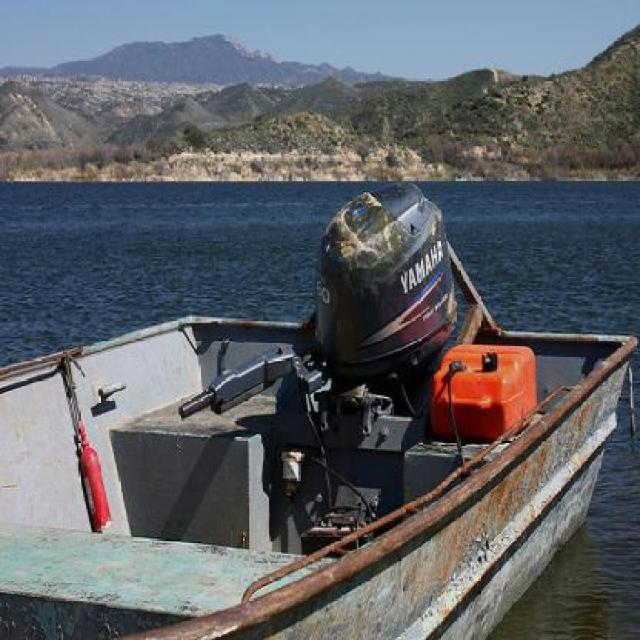ship: (0, 144, 638, 635)
